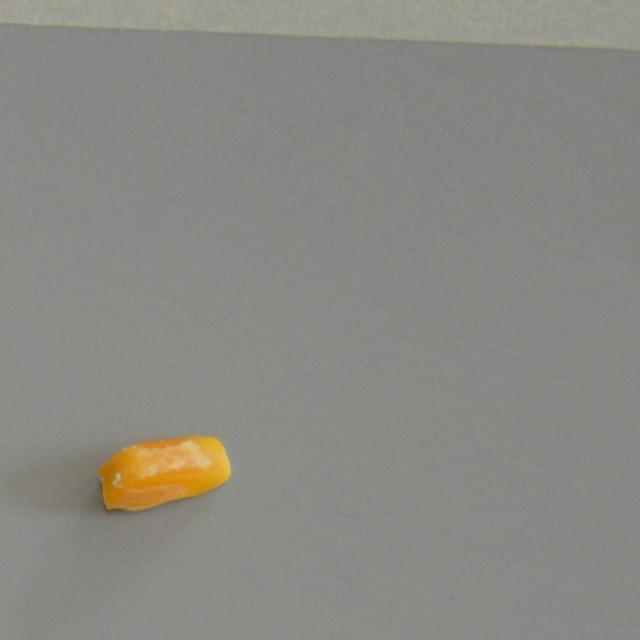dañado: (94, 432, 233, 515)
